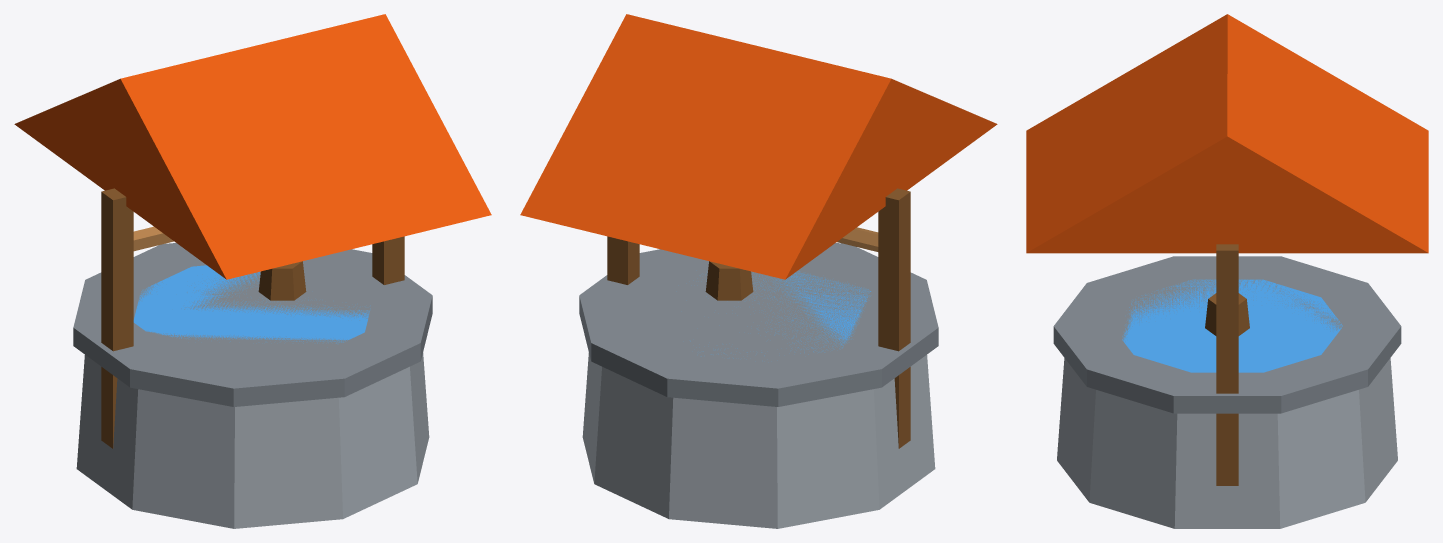
The model's file is well.glb.
3 views of the same model, side by side, from view 1: azimuth 30°, elevation 25°; view 2: azimuth 150°, elevation 25°; view 3: azimuth 270°, elevation 25° (orthographic). The views are drawn at different scales.
Visible parts, largest first — view 1: telha.002, pedra.006, pedra_escura.007, water_agua, madeira_escura.006, madeira.004; view 2: telha.002, pedra.006, pedra_escura.007, madeira_escura.006, water_agua, madeira.004; view 3: telha.002, pedra.006, pedra_escura.007, water_agua, madeira_escura.006.
Boxes of the visible parts, x1=… form: telha.002: x1=14, y1=14, x2=491, y2=279; pedra.006: x1=76, y1=352, x2=429, y2=528; pedra_escura.007: x1=73, y1=243, x2=432, y2=406; water_agua: x1=133, y1=265, x2=370, y2=343; madeira_escura.006: x1=101, y1=188, x2=404, y2=448; madeira.004: x1=133, y1=226, x2=173, y2=251; telha.002: x1=520, y1=14, x2=997, y2=279; pedra.006: x1=582, y1=352, x2=935, y2=528; pedra_escura.007: x1=579, y1=243, x2=938, y2=406; madeira_escura.006: x1=607, y1=188, x2=910, y2=448; water_agua: x1=690, y1=271, x2=870, y2=358; madeira.004: x1=837, y1=227, x2=878, y2=251; telha.002: x1=1026, y1=14, x2=1428, y2=253; pedra.006: x1=1057, y1=358, x2=1397, y2=528; pedra_escura.007: x1=1053, y1=256, x2=1401, y2=413; water_agua: x1=1122, y1=279, x2=1342, y2=372; madeira_escura.006: x1=1205, y1=244, x2=1249, y2=485.
Bounding box in the file's own units: 1.03 × 1.32 × 1.25.
